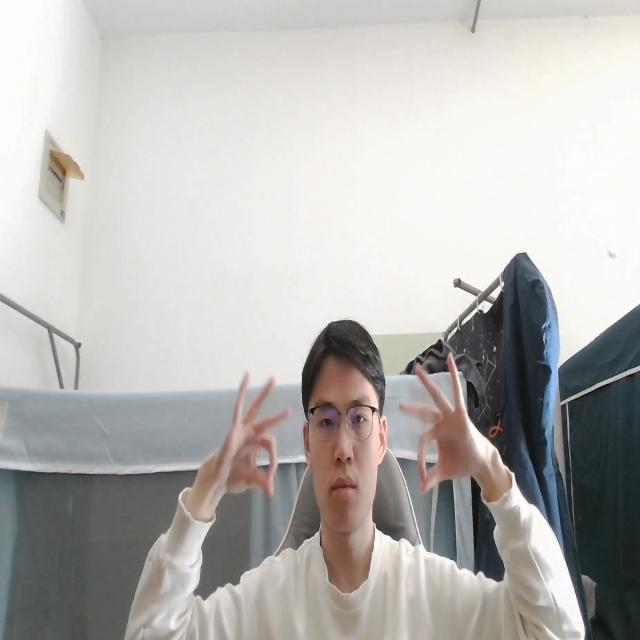ok: (395, 347, 492, 495), (199, 366, 294, 508)
